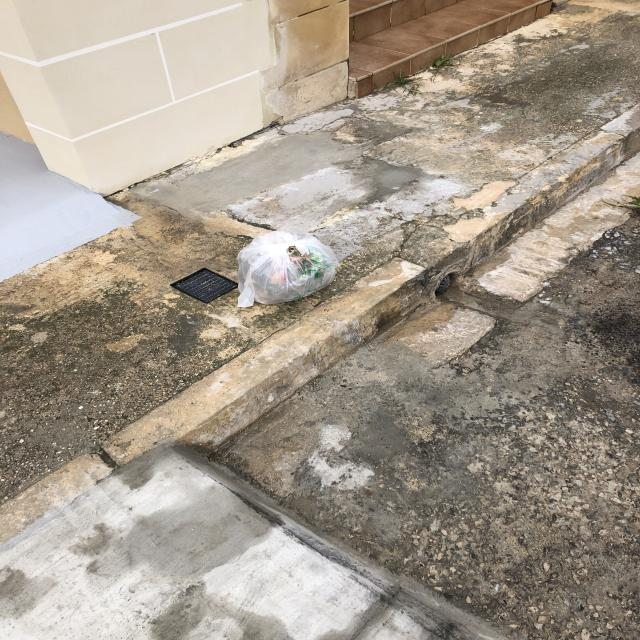Organic Waste -White Bag-: (236, 224, 346, 315)
